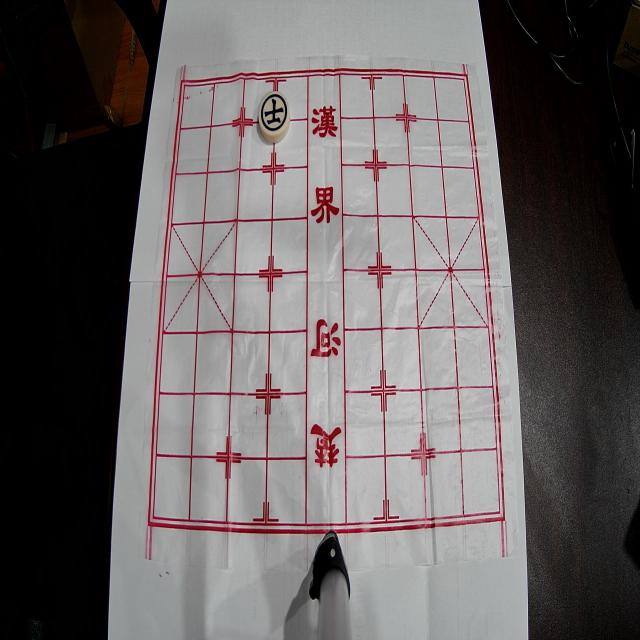black-guard: (258, 91, 290, 143)
